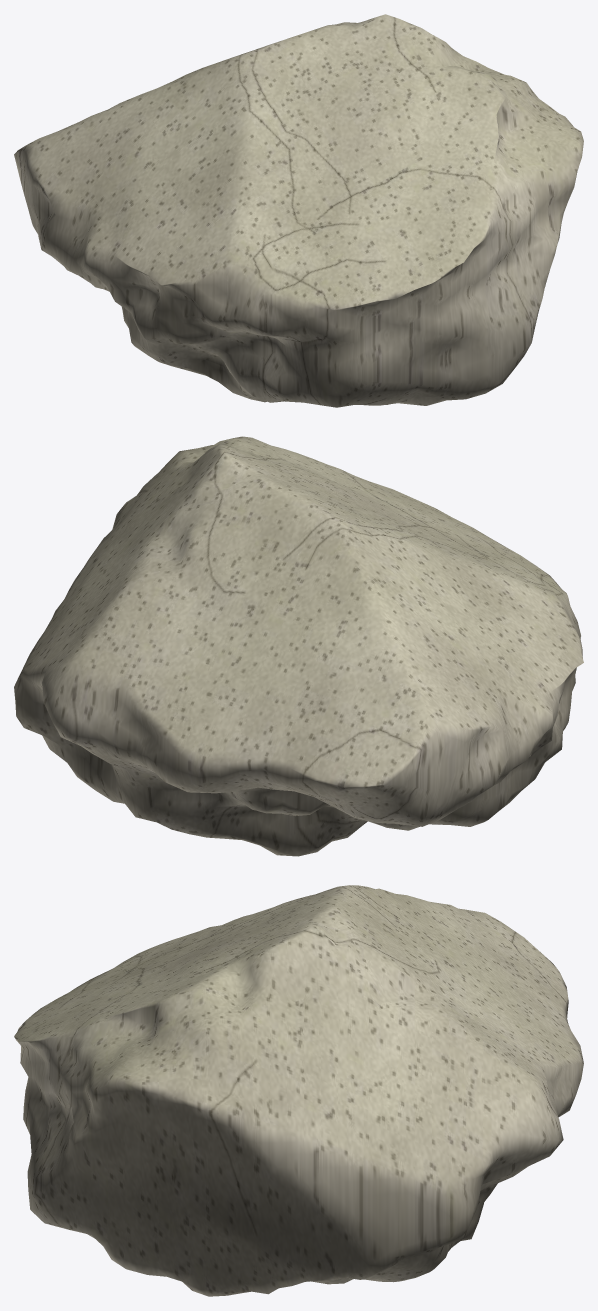
The model's file is rock-limestone-2.full.glb.
3 renders of one model, top to bottom at view 1: azimuth 30°, elevation 25°; view 2: azimuth 150°, elevation 25°; view 3: azimuth 270°, elevation 25°, orthographic. The views are drawn at different scales.
Visible parts, largest first — view 1: model; view 2: model; view 3: model.
Boxes of the visible parts, x1,y1,x2,y2 form: model: (14,14,583,407); model: (14,436,583,856); model: (14,885,583,1296).
Bounding box in the file's own units: 1 × 0.7351 × 1.04.
Materials: 1 (1 with a texture image).
